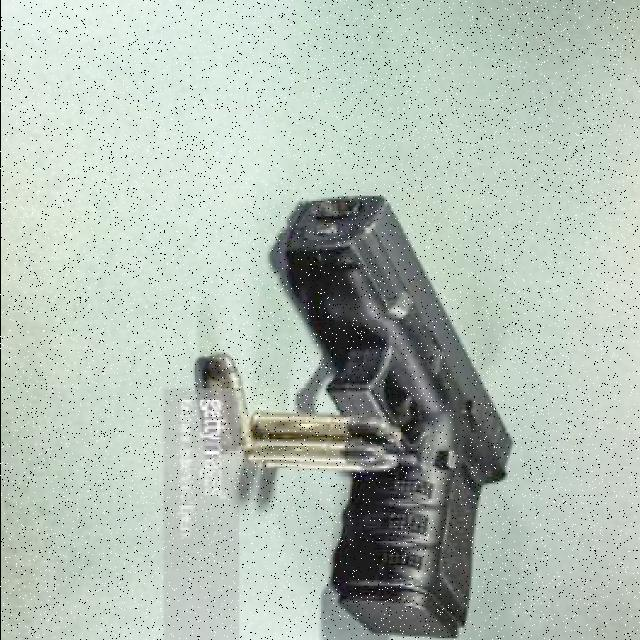Guns: (286, 195, 511, 639)
